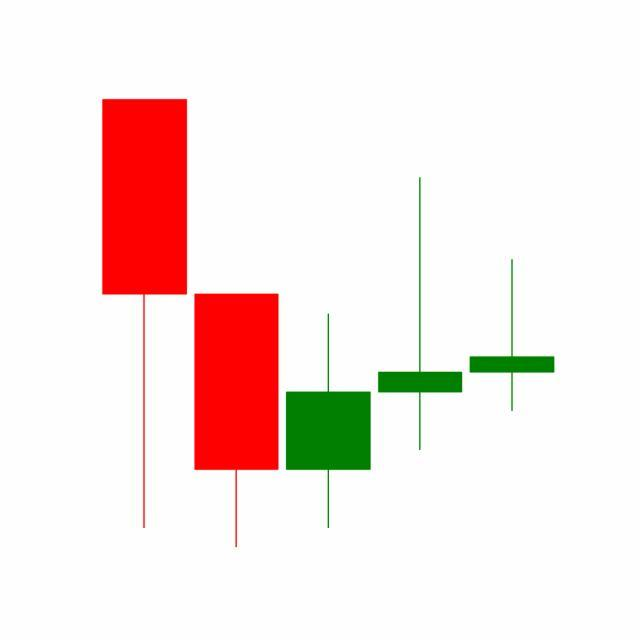Gravestone Doji: (466, 258, 559, 414)
